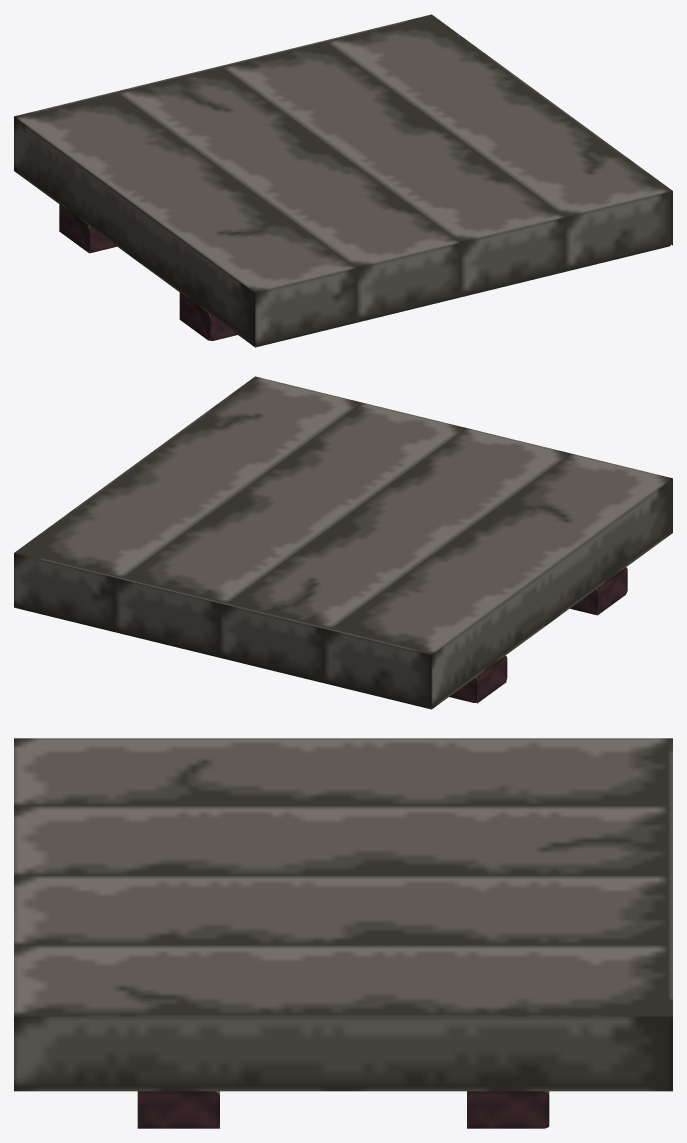
The model's file is Ceiling_2x2_Supported.fbx.
3 views of the same model, one above another, from view 1: azimuth 30°, elevation 25°; view 2: azimuth 150°, elevation 25°; view 3: azimuth 270°, elevation 25° (orthographic). The views are drawn at different scales.
Parts seen in each view (by area): view 1: Ceiling_2x2_Supported; view 2: Ceiling_2x2_Supported; view 3: Ceiling_2x2_Supported.
Part boxes in pixels (bbox=[...]): Ceiling_2x2_Supported: bbox=[14, 14, 672, 347]; Ceiling_2x2_Supported: bbox=[14, 376, 672, 709]; Ceiling_2x2_Supported: bbox=[14, 738, 672, 1128].
Size of the model in its own units: 400 by 75 by 400.
Materials: 1 (1 with a texture image).
